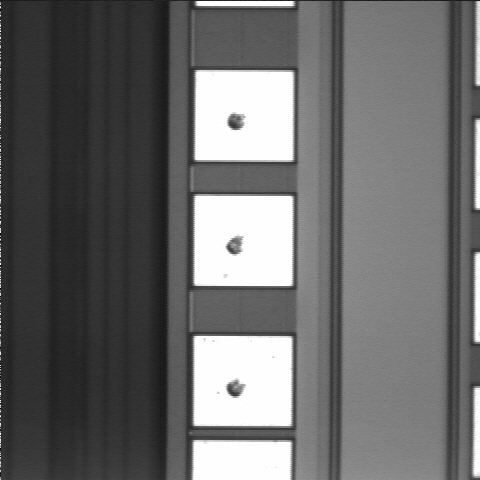pad: (195, 70, 293, 161), (194, 196, 293, 286), (194, 336, 292, 426)
